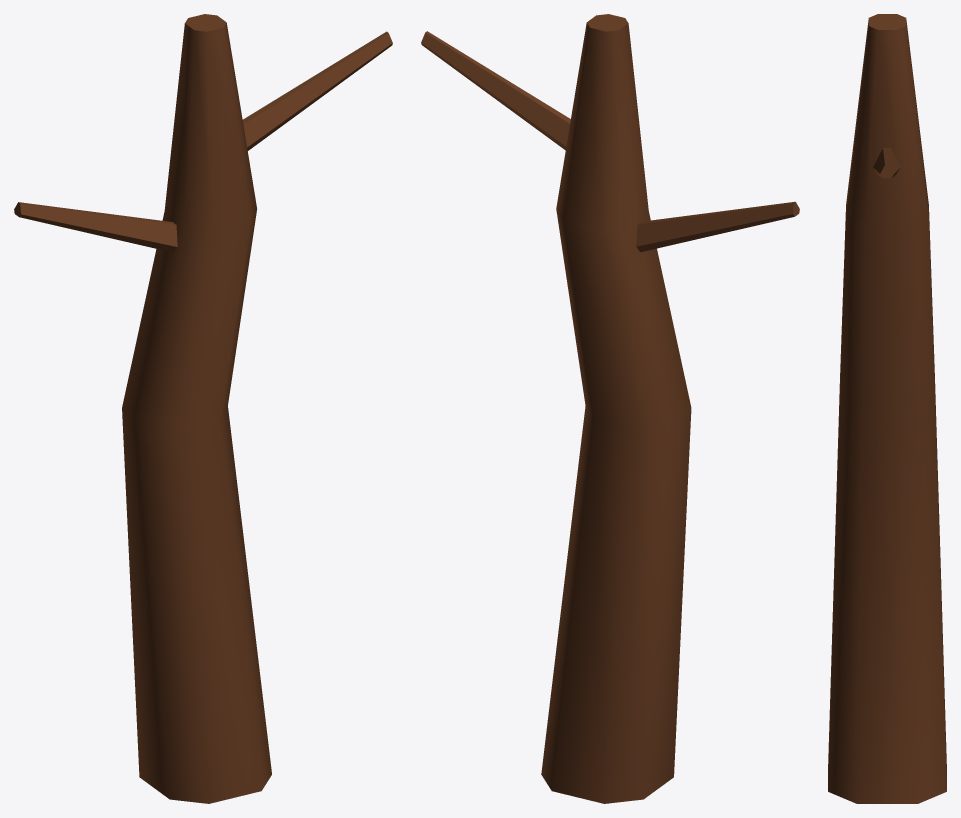
File: Tree_4.fbx
3 renders of one model, left to right at view 1: azimuth 30°, elevation 25°; view 2: azimuth 150°, elevation 25°; view 3: azimuth 270°, elevation 25°, orthographic.
Parts seen in each view (by area): view 1: Tree_4; view 2: Tree_4; view 3: Tree_4.
Boxes of the visible parts, left/top/right/bottom form: Tree_4: left=14, top=14, right=392, bottom=803; Tree_4: left=421, top=14, right=799, bottom=803; Tree_4: left=828, top=14, right=946, bottom=803.
Bounding box in the file's own units: 72.63 × 140 × 19.91.
